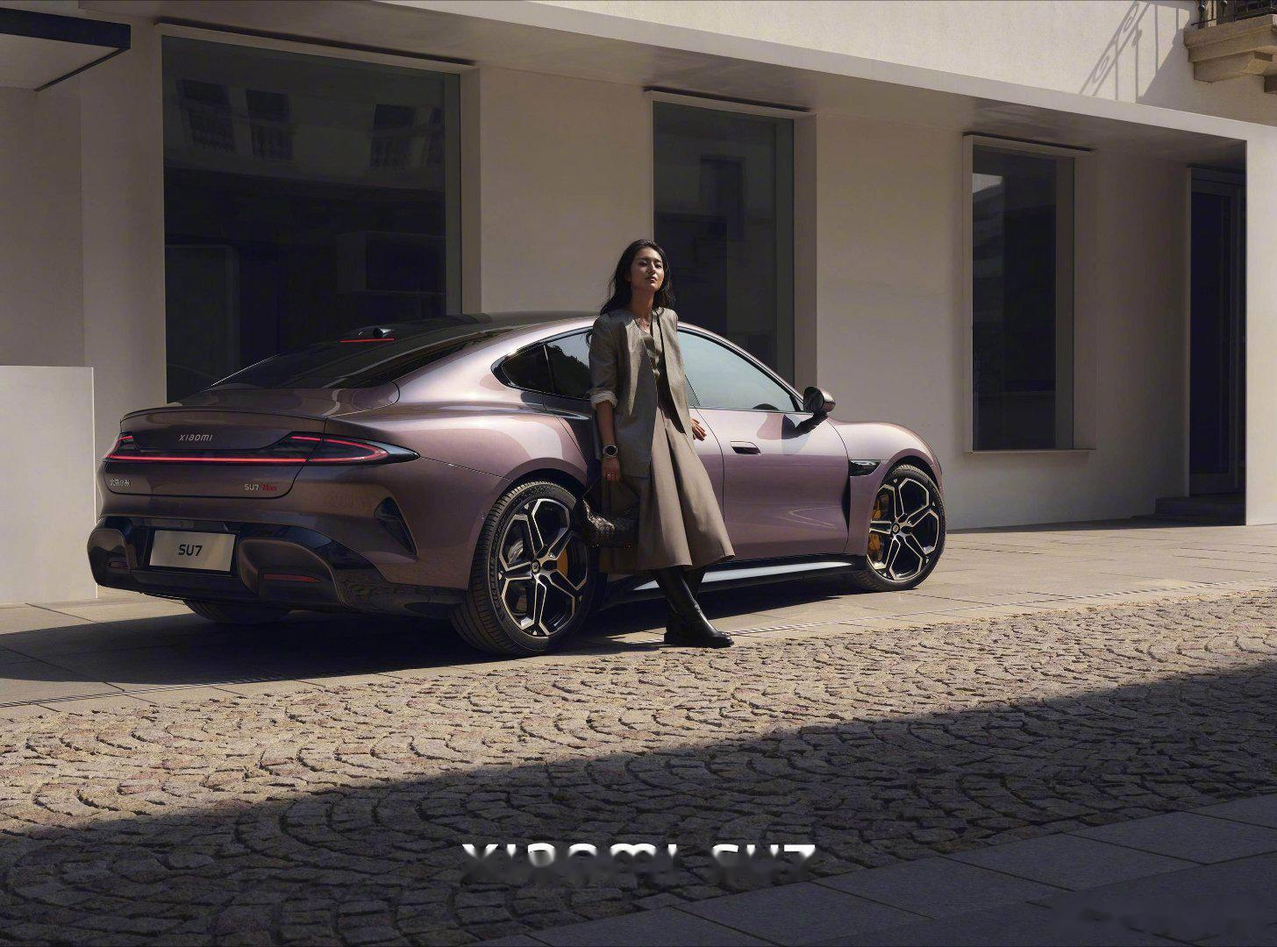su7: (56, 285, 954, 621)
